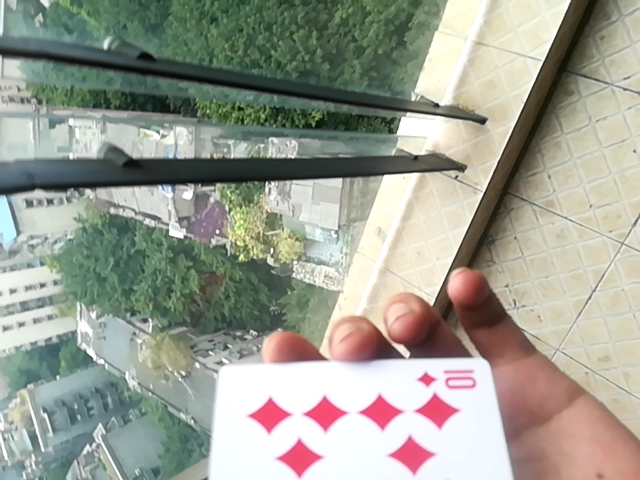fk 10: (197, 353, 514, 475)
